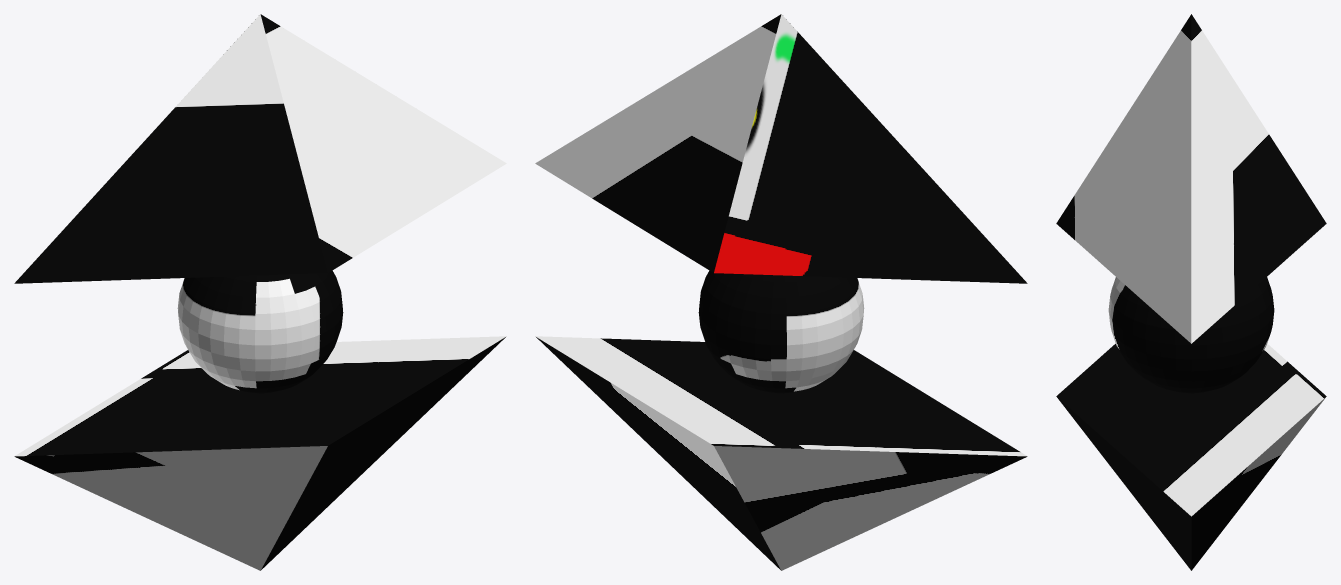
File: body.obj
3 views of the same model, side by side, from view 1: azimuth 30°, elevation 25°; view 2: azimuth 150°, elevation 25°; view 3: azimuth 270°, elevation 25° (orthographic).
Visible parts, largest first — view 1: 体_立方体.005; view 2: 体_立方体.005; view 3: 体_立方体.005.
Part boxes in pixels (left/top/right/bottom): 体_立方体.005: left=14, top=14, right=506, bottom=570; 体_立方体.005: left=535, top=14, right=1027, bottom=570; 体_立方体.005: left=1056, top=14, right=1326, bottom=570.
Bounding box in the file's own units: 1.84 × 1.99 × 0.8742.
